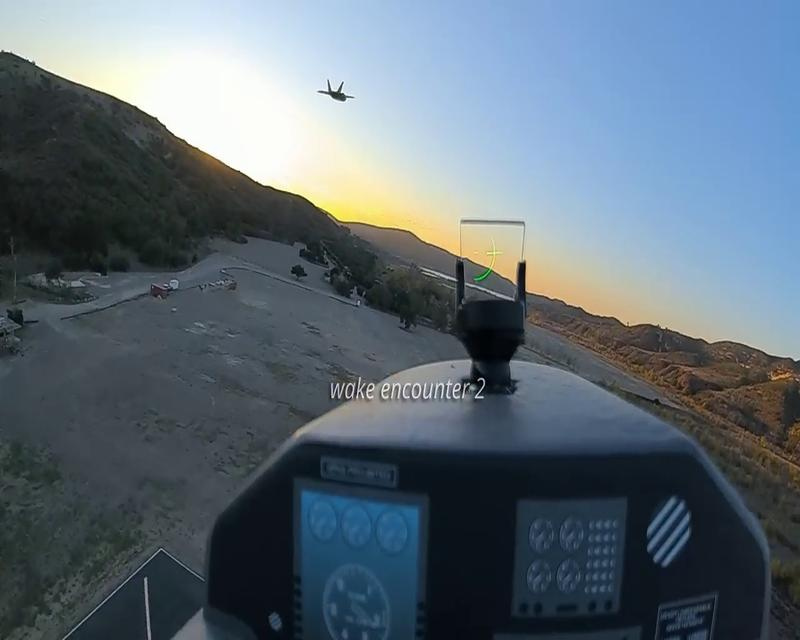UAV: (316, 78, 356, 102)
